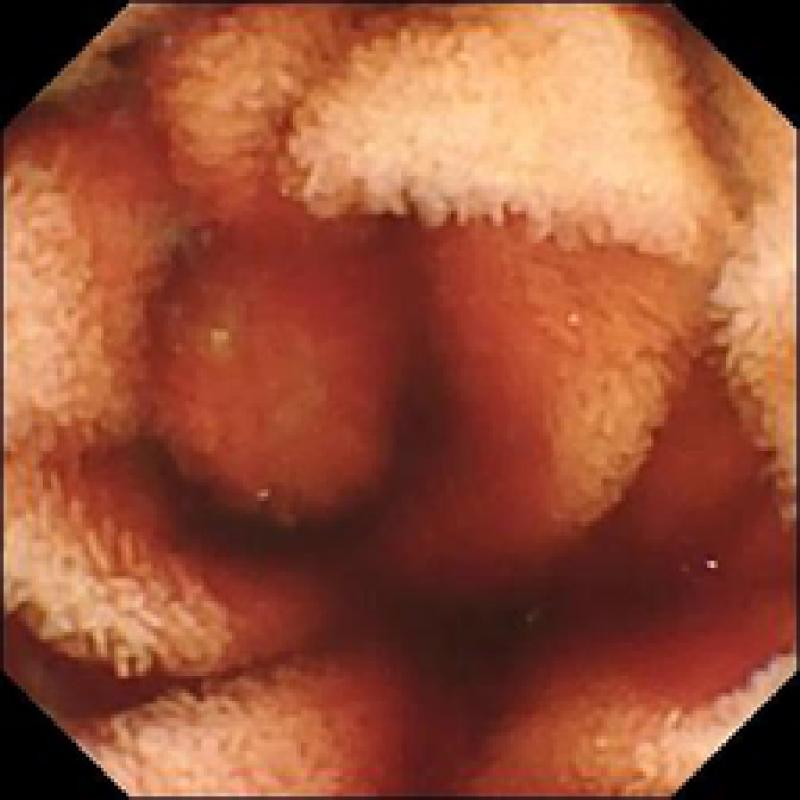bleeding: (11, 14, 796, 796)
